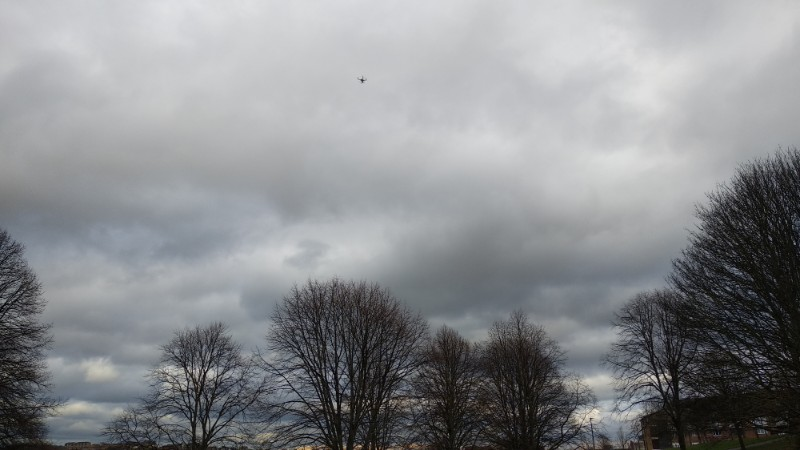drone: (357, 76, 368, 83)
